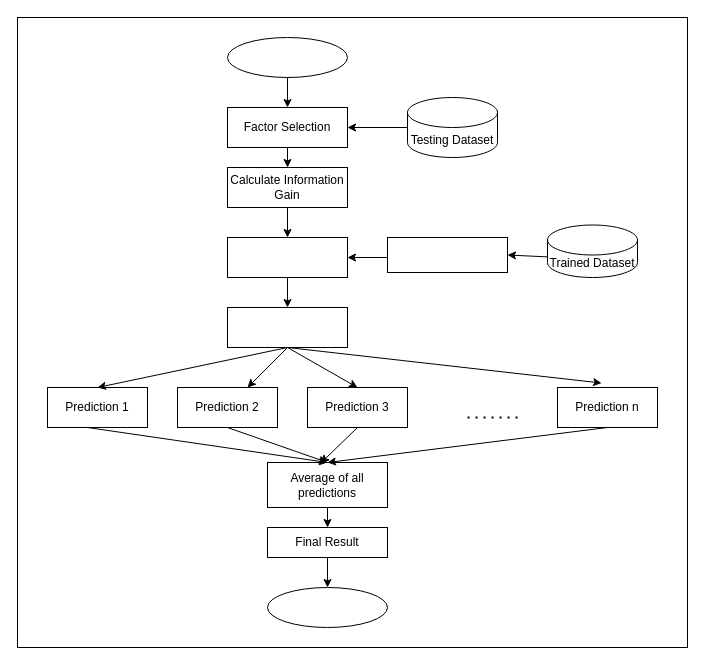
The diagram is 705 pixels wide and 665 high, and some of its shapes have lost their labels. The shapes that lost their labels are listed below. From the top down, each one's centre as x and y in pixels, then its label:
At (x=287, y=57): "START".
At (x=287, y=257): "Threshold Value".
At (x=447, y=254): "Get Real Value".
At (x=287, y=327): "Random Forest Algorithm".
At (x=327, y=607): "END".
